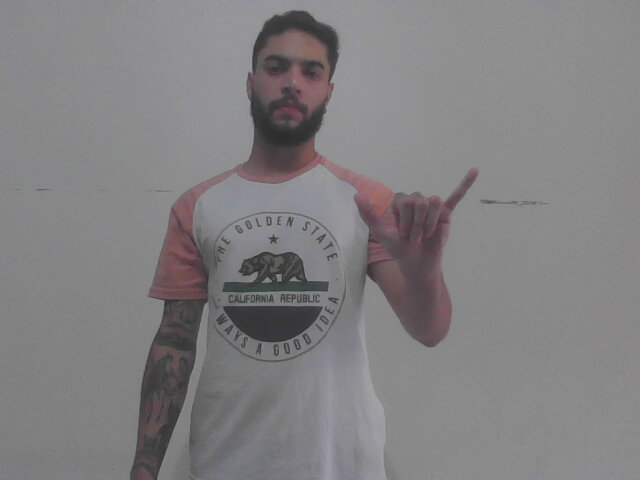y: (352, 164, 482, 281)
